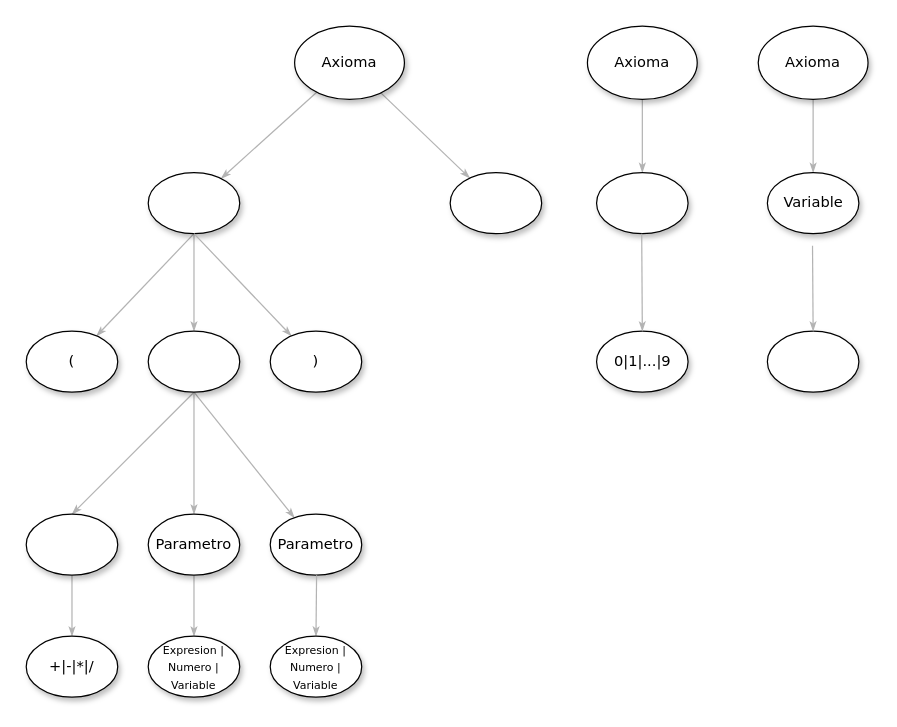
Some shapes in this 897 by 727 pixel diagram are drawn without their labels. Each missing label, with the centre of its shape:
"\n" belongs at (x=496, y=204).
"A|B|...|Z" belongs at (x=813, y=363).
"Expresion" belongs at (x=194, y=204).
"Numero" belongs at (x=642, y=204).
"Operador" belongs at (x=72, y=546).
"Secuencia" belongs at (x=194, y=363).
